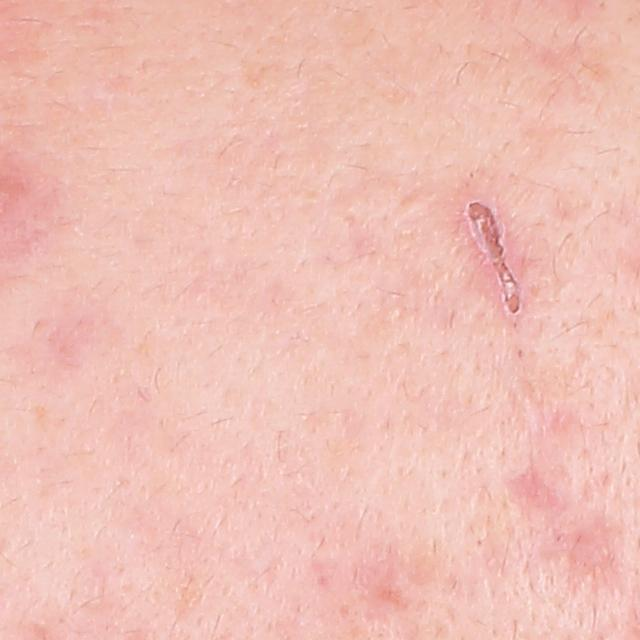other: (464, 193, 523, 326)
